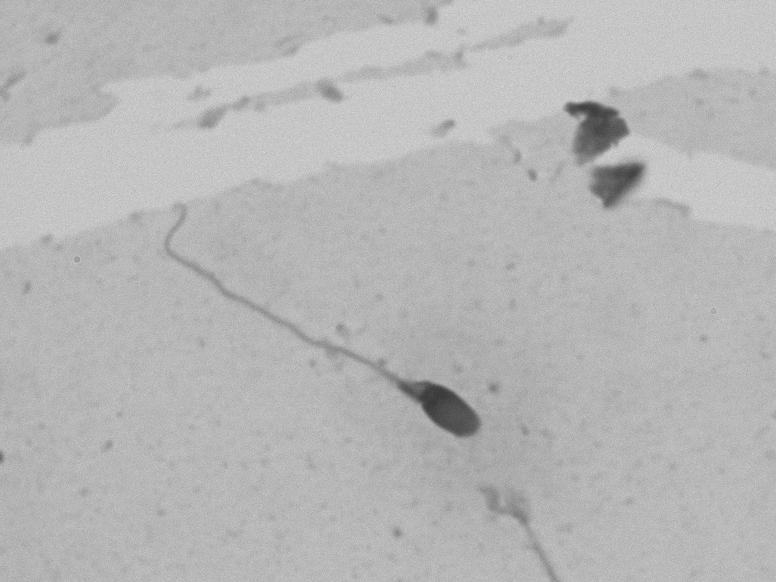Abnormal: (143, 185, 538, 456)
